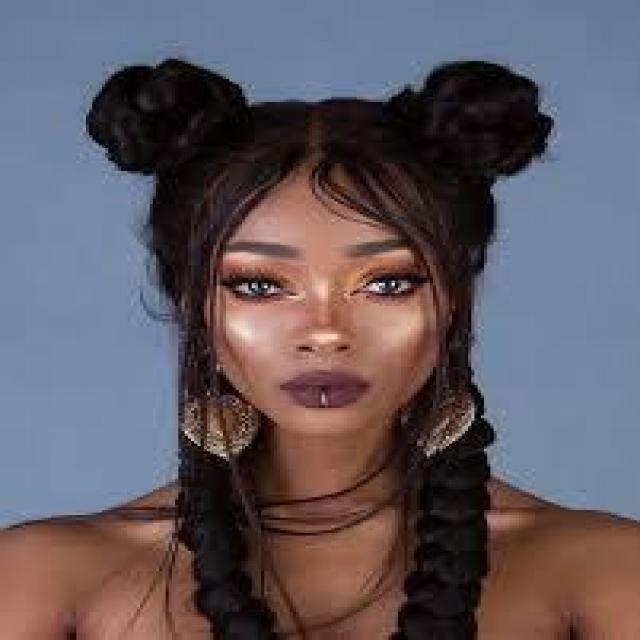person: (9, 64, 634, 637)
